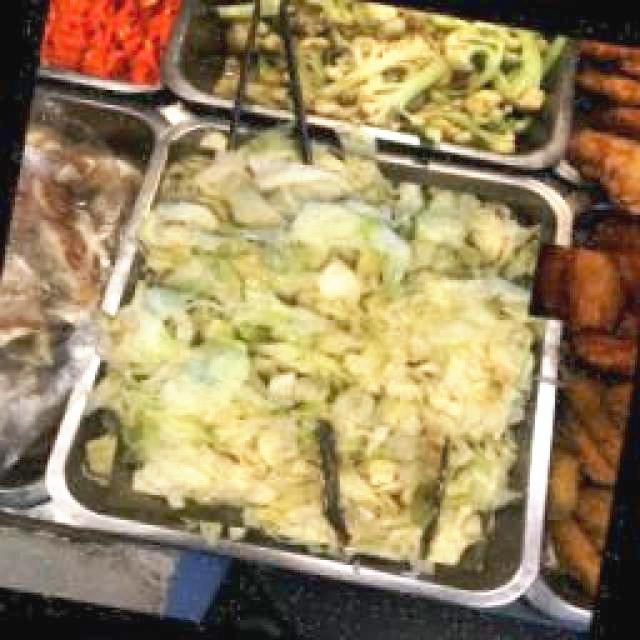carrot_eggs: (35, 0, 196, 88)
chinese_cabbage: (90, 129, 552, 560)
